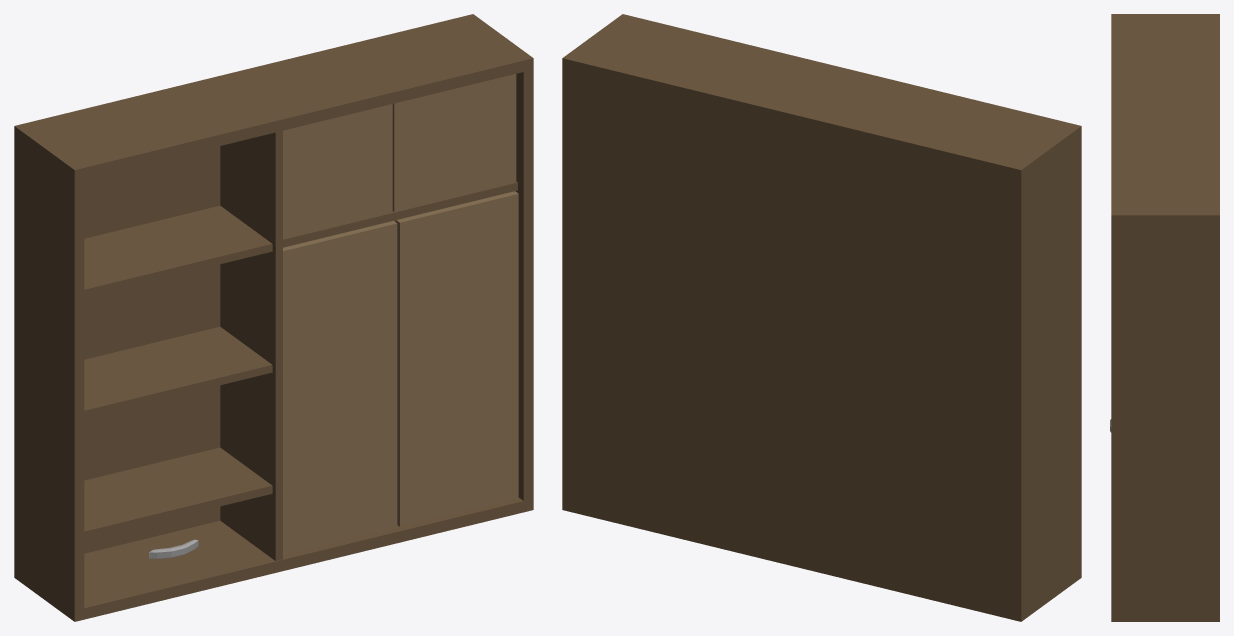
The model's file is closet.glb.
3 renders of one model, left to right at view 1: azimuth 30°, elevation 25°; view 2: azimuth 150°, elevation 25°; view 3: azimuth 270°, elevation 25°, orthographic. The views are drawn at different scales.
Bounding box in the file's own units: 3.64 × 3.43 × 0.8391.
